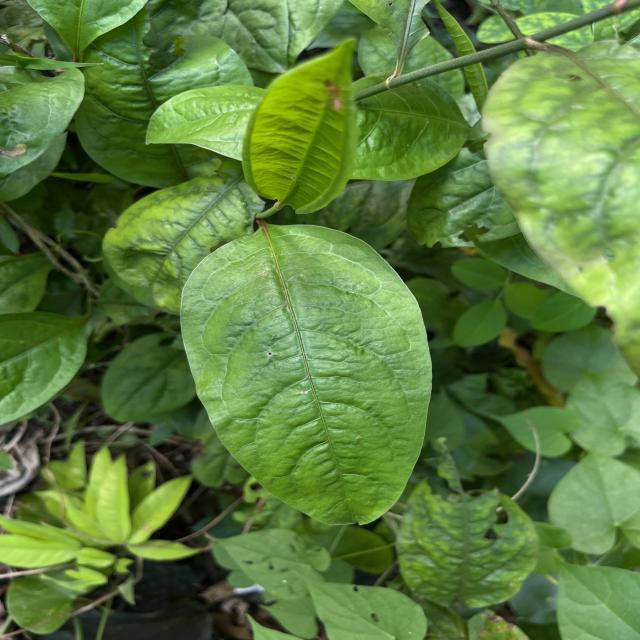Plumbago indica: (172, 219, 434, 534), (235, 30, 370, 214)
